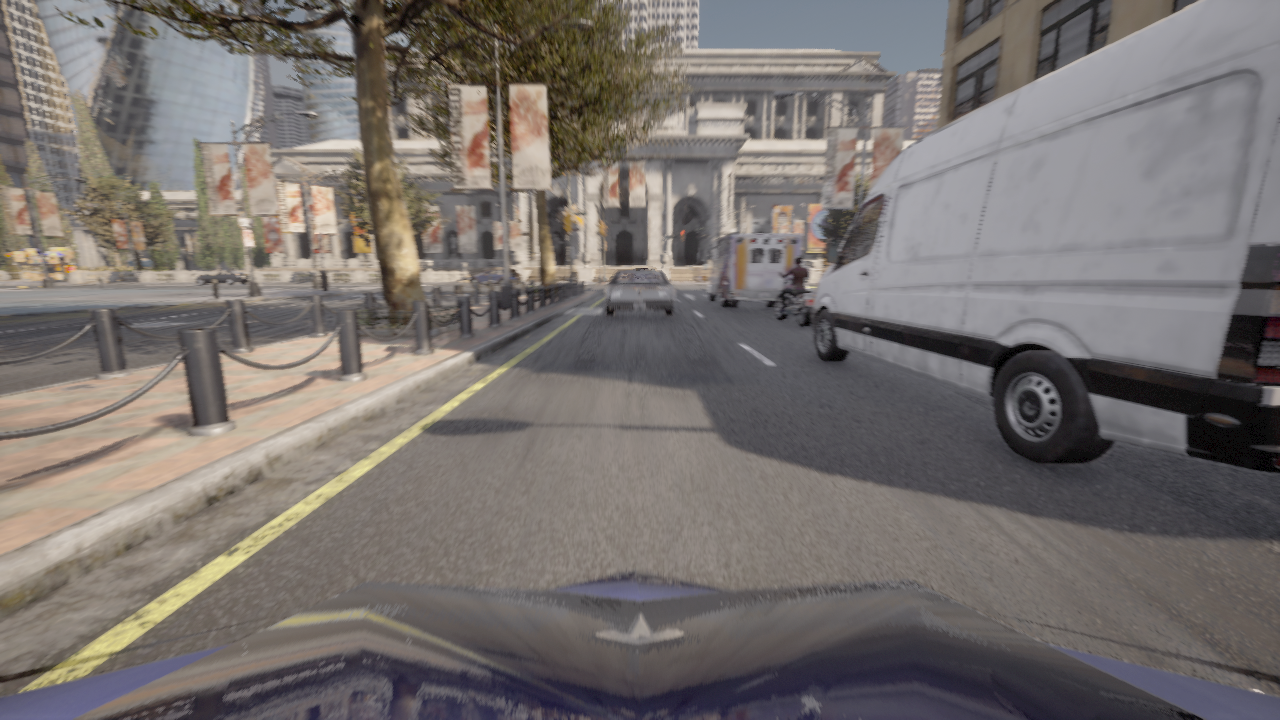cyclist: (811, 0, 1279, 472), (0, 569, 1279, 719), (703, 234, 801, 307), (605, 270, 674, 315), (774, 270, 814, 326), (468, 268, 521, 286), (195, 270, 249, 285), (633, 267, 655, 269)
